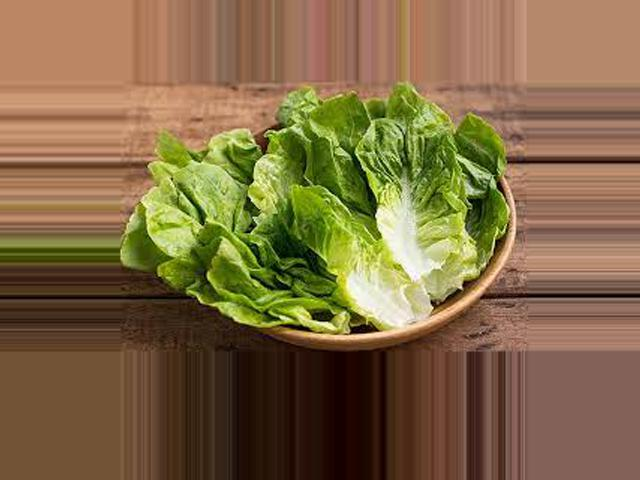lettuce: (125, 95, 531, 347)
